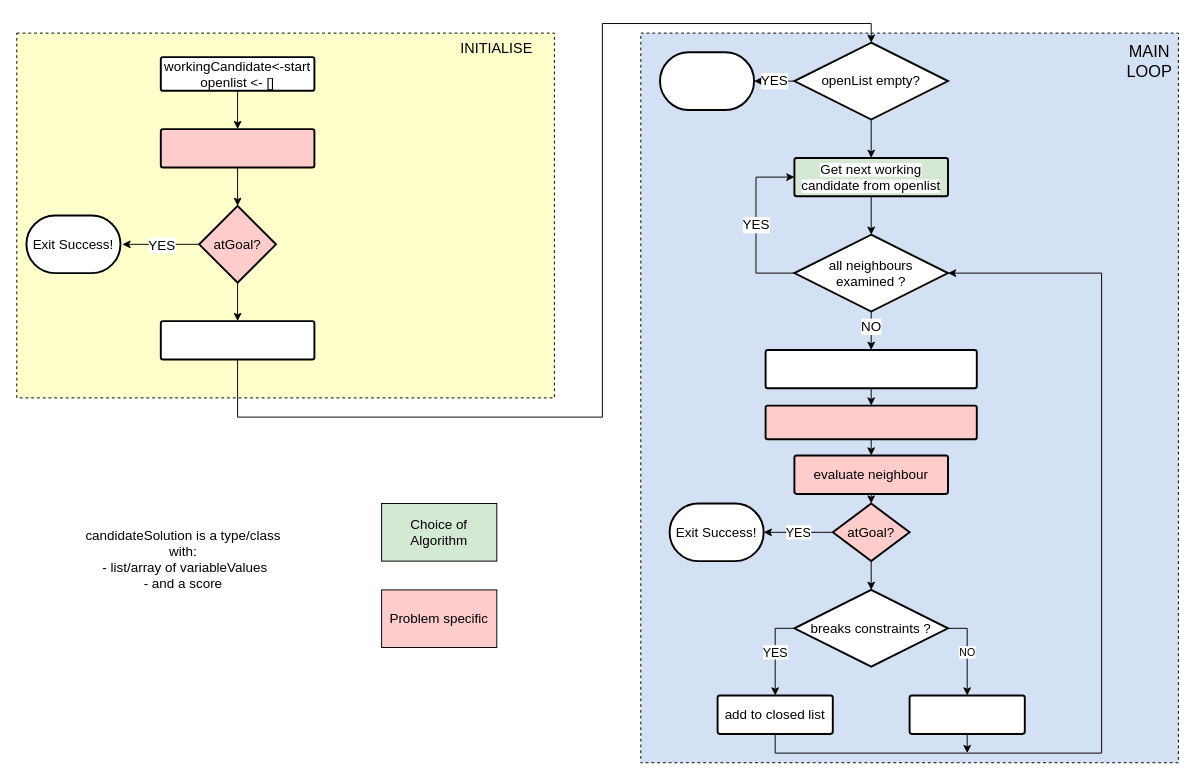
Image size: 1195x780. Some labels were removed from this diagram. Here are the shapes that lost their labels. From the top down, the centre of each, then its label:
At (707,80): "Exit FAILED".
At (237,148): "Evaluate workingCandidate".
At (237,340): "Add WorkingCandidate to open list".
At (870,368): "set neighbour = copy of working candidate".
At (870,422): "neighbour=applymove(neighbour)".
At (966,714): "add to open list".
